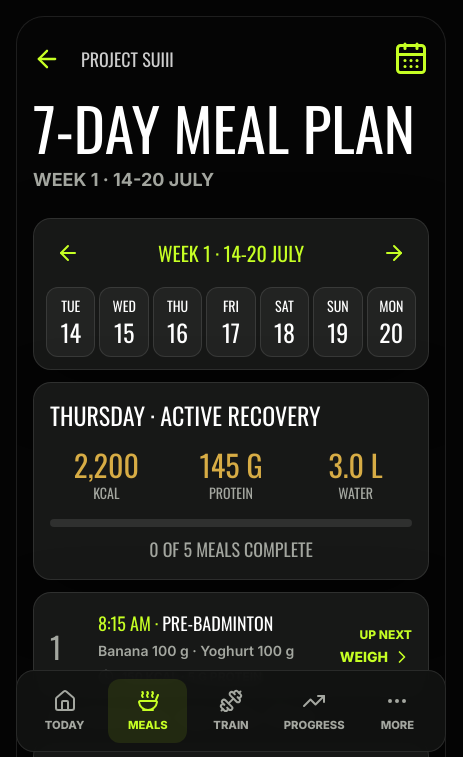
Test case: Meals flow › renders seven-day plan, day selection, and week controls
Expected: the heading "7-Day Meal Plan" is shown, [33,101,429,154]
Expected: the button named "previous week" is shown, [46,231,90,275]
What coordinates should you click on to do the following:
click the button "WED 15"
I would click on:
 (124, 322)
Its box is [99,287,149,357].
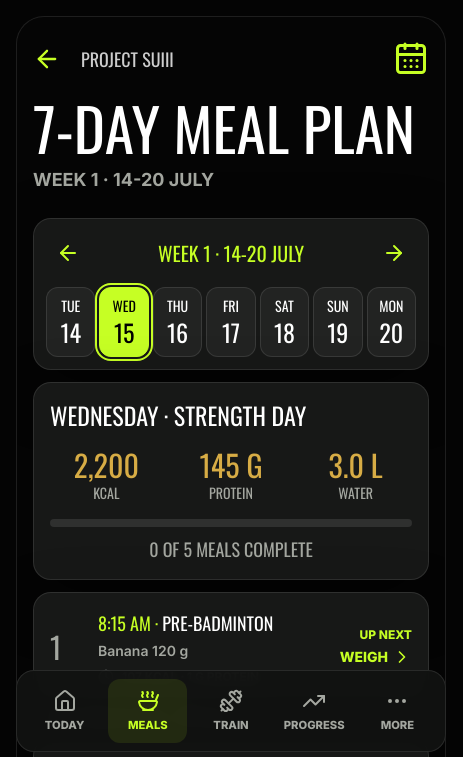
Now the heading "Wednesday · Strength Day" is shown, box [50,397,306,433]
